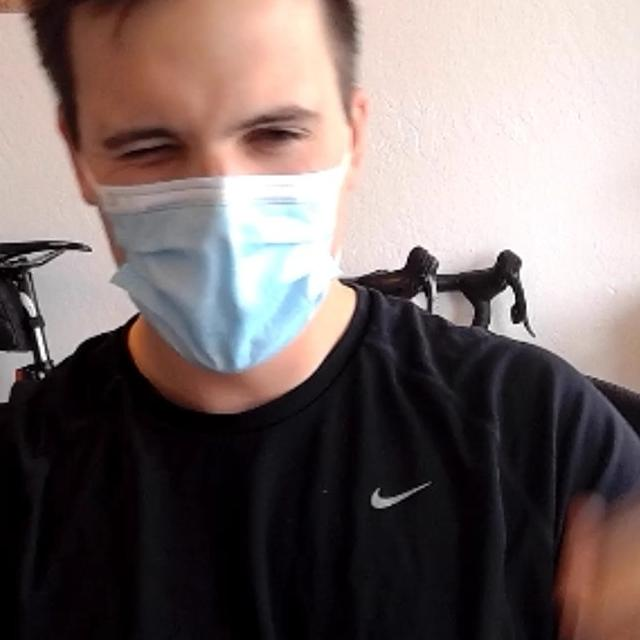Mask: (70, 143, 357, 375)
NO-Safety Vest: (0, 298, 571, 640)
Person: (0, 0, 640, 640)
